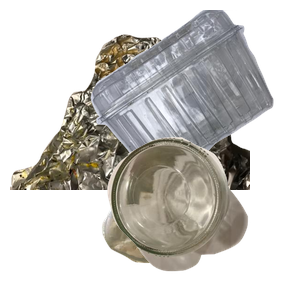glass: (105, 135, 300, 300)
metal: (10, 32, 250, 212)
plastic: (88, 10, 300, 180)
trash: (99, 155, 268, 300)
